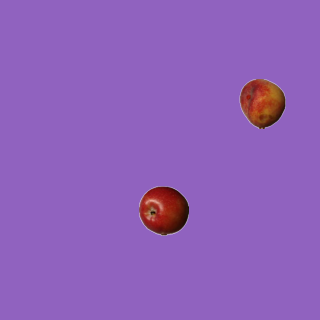Apple Braeburn: (138, 185, 188, 235)
Peach: (237, 78, 287, 128)
